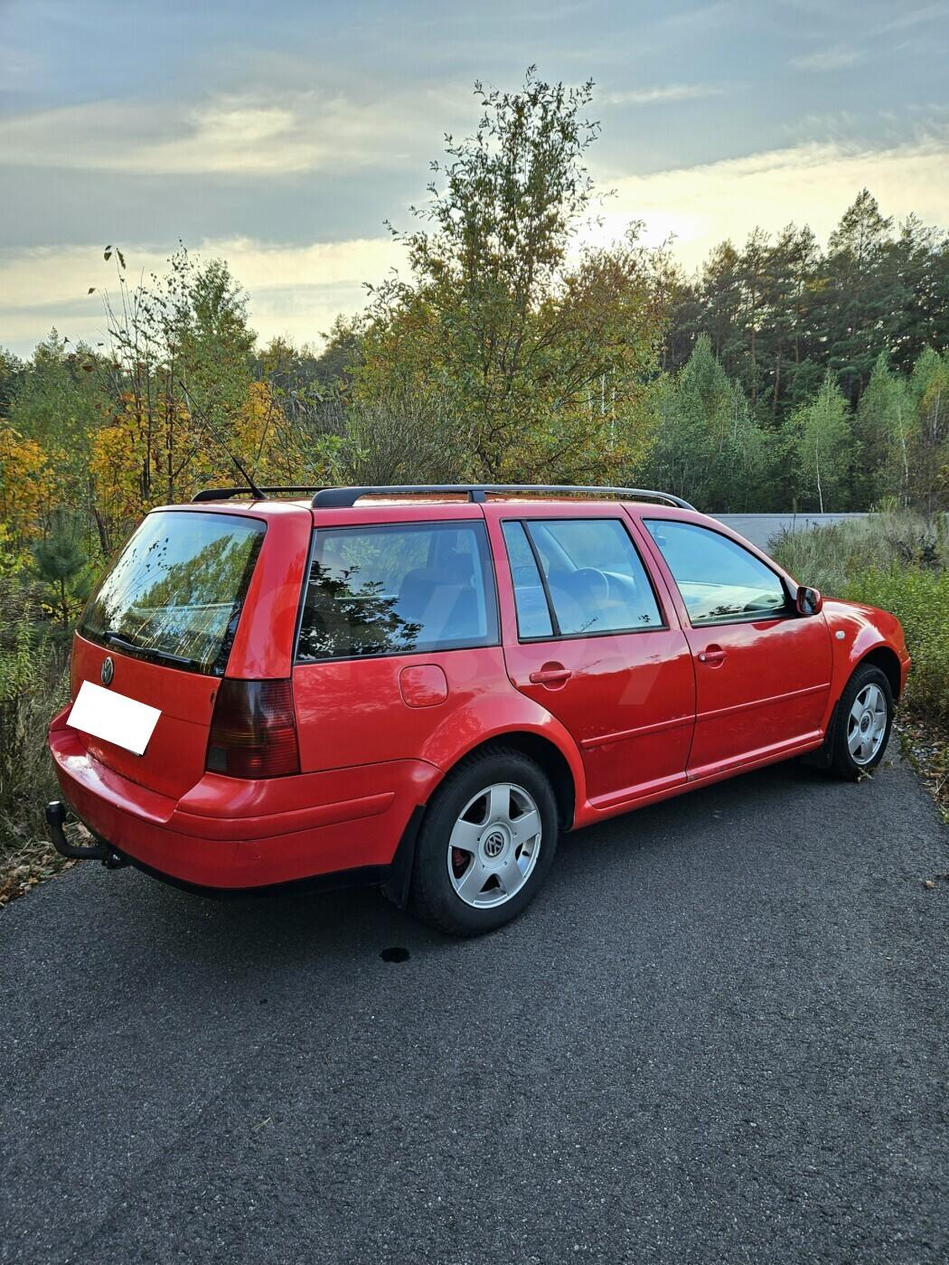Golf_1997-2006: (32, 493, 914, 937)
